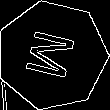M_E: (22, 27, 83, 83)
